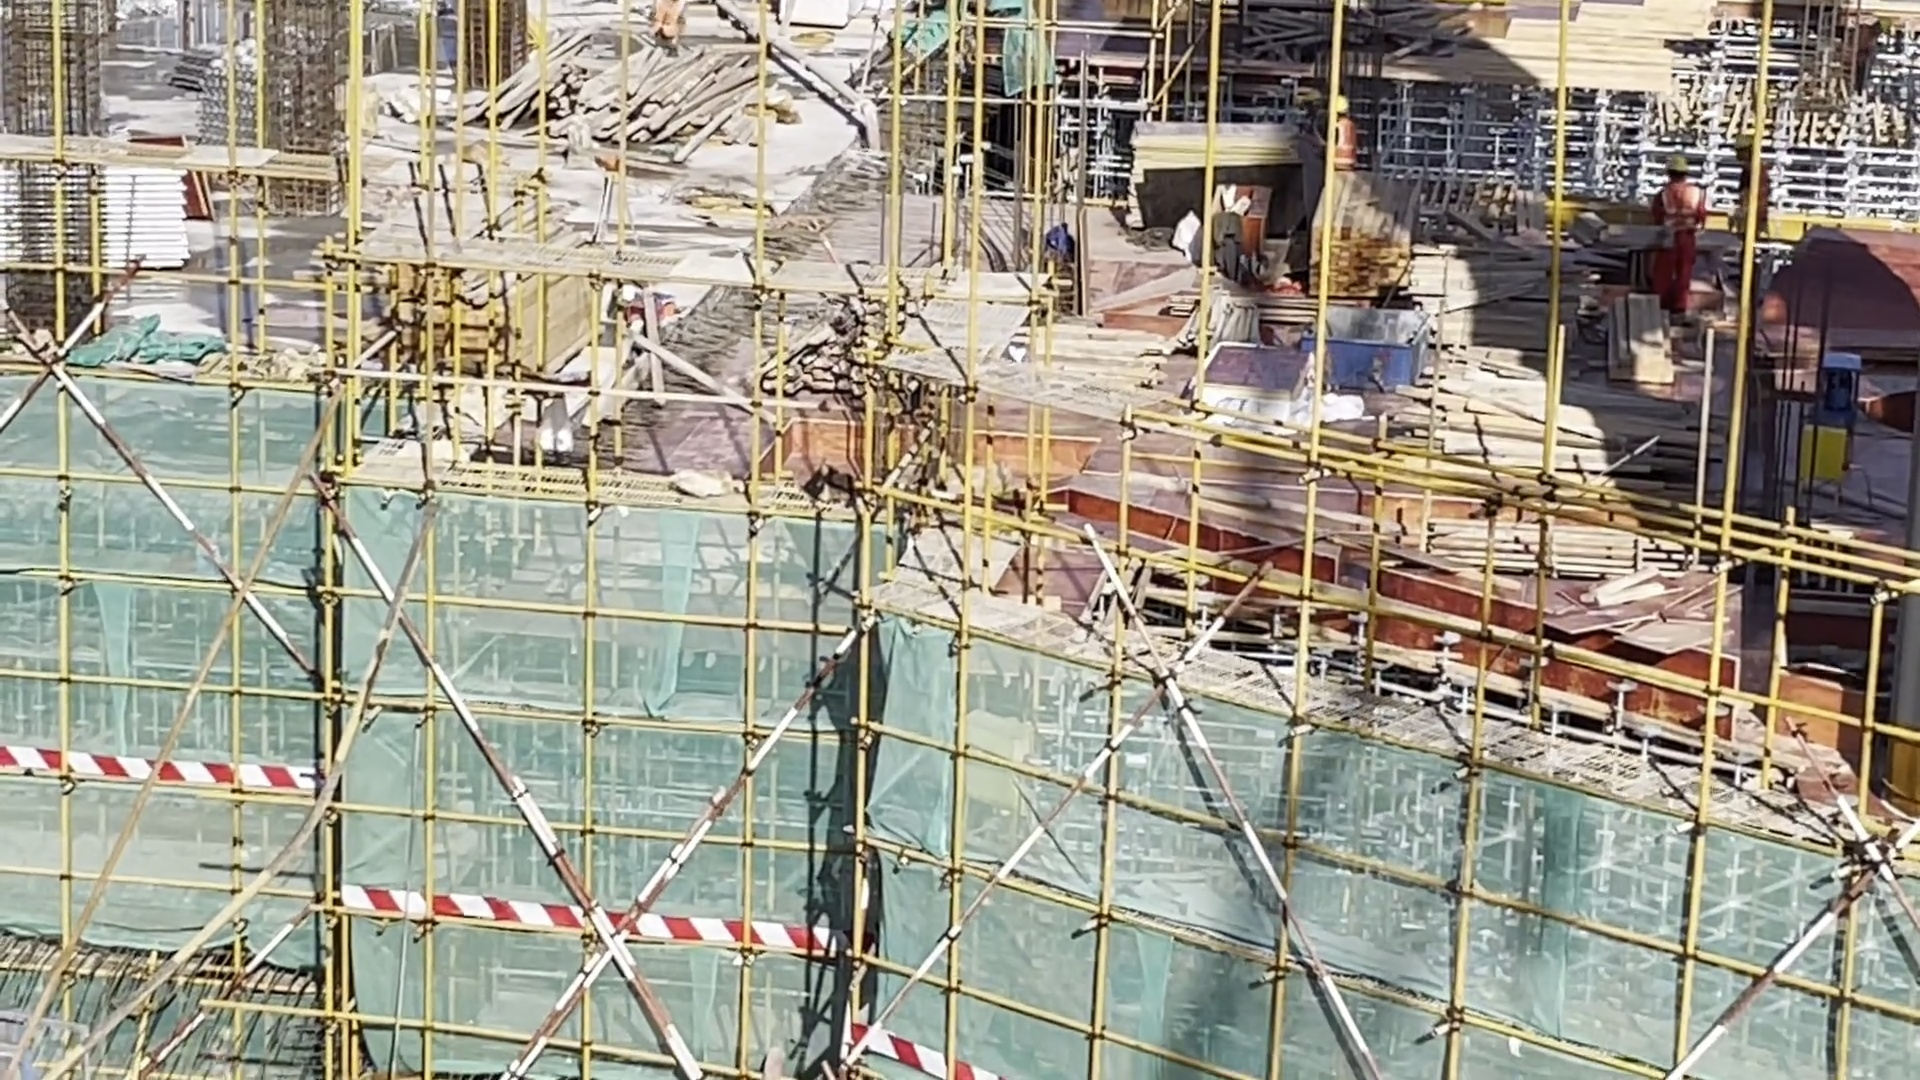board: (1120, 115, 1308, 248)
helmet: (1662, 152, 1691, 179), (1729, 132, 1757, 155), (1331, 94, 1351, 120)
hopper: (1310, 309, 1438, 388)
person: (1651, 143, 1704, 328), (1725, 119, 1777, 301), (1315, 91, 1365, 188)
vest: (1653, 183, 1705, 240), (1329, 121, 1359, 173)
wood: (1418, 352, 1710, 484), (388, 200, 591, 383), (1304, 168, 1430, 305), (1611, 296, 1675, 385)
